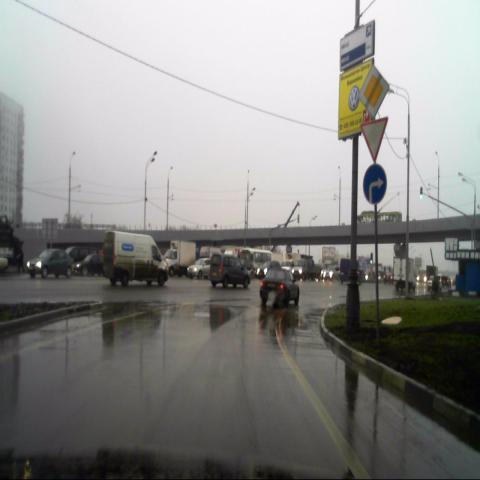4_1_2: (363, 166, 387, 204)
